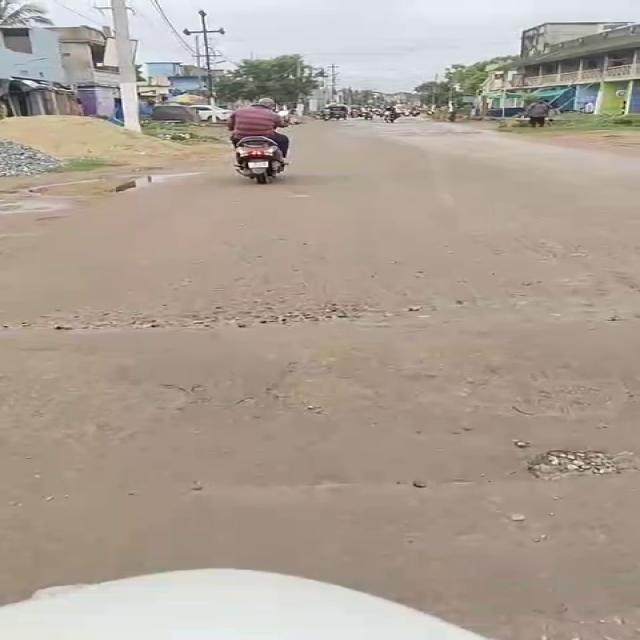pothole: (33, 302, 414, 334), (35, 391, 189, 439), (458, 371, 610, 419), (260, 368, 376, 413), (30, 174, 192, 195), (528, 450, 620, 478), (4, 198, 49, 217)
